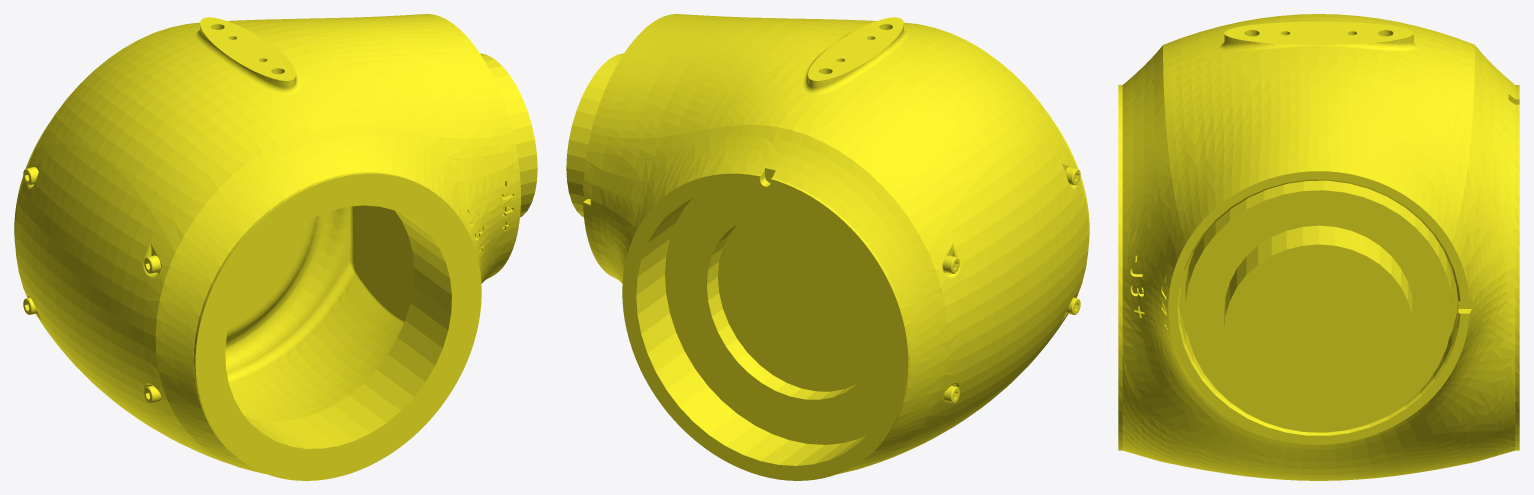
The picture shows the model from 3 angles, left to right: view 1: azimuth 30°, elevation 25°; view 2: azimuth 150°, elevation 25°; view 3: azimuth 270°, elevation 25°; orthographic projection. The views are drawn at different scales.
Parts seen in each view (by area): view 1: Link3; view 2: Link3; view 3: Link3.
Boxes of the visible parts, x1,y1,x2,y2 form: Link3: [14, 14, 537, 480]; Link3: [566, 14, 1089, 480]; Link3: [1118, 14, 1519, 480].
Bounding box in the file's own units: 0.2429 × 0.18 × 0.209.
